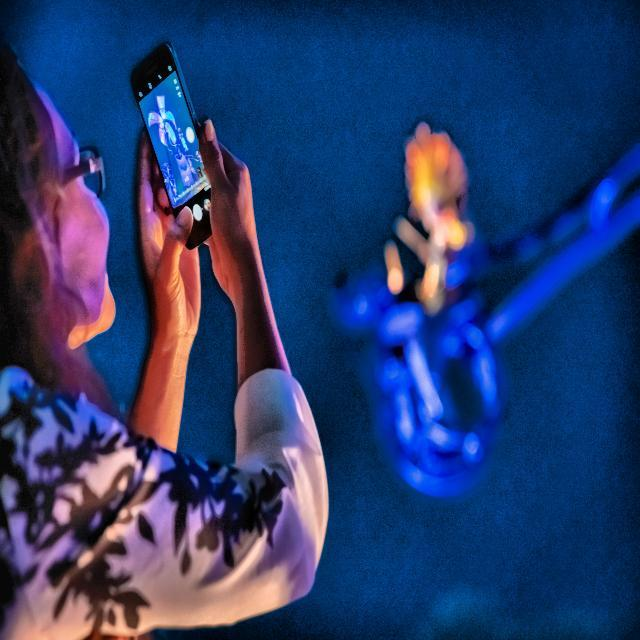Phone: (129, 41, 215, 251)
